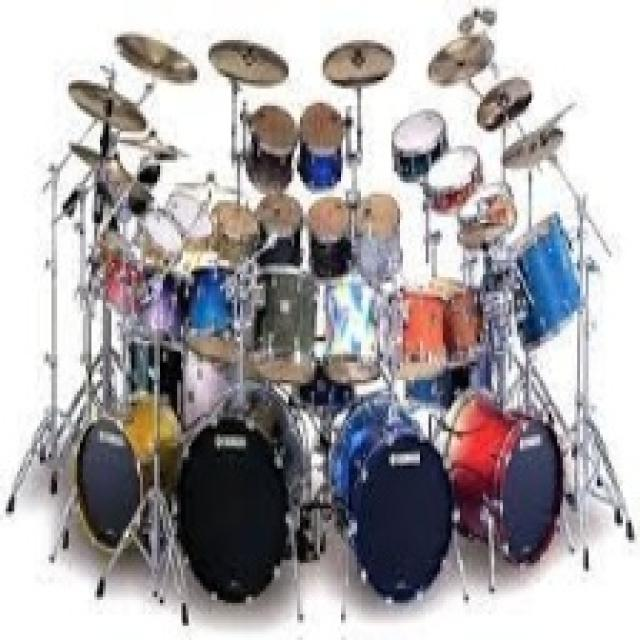drums: (12, 18, 640, 628)
